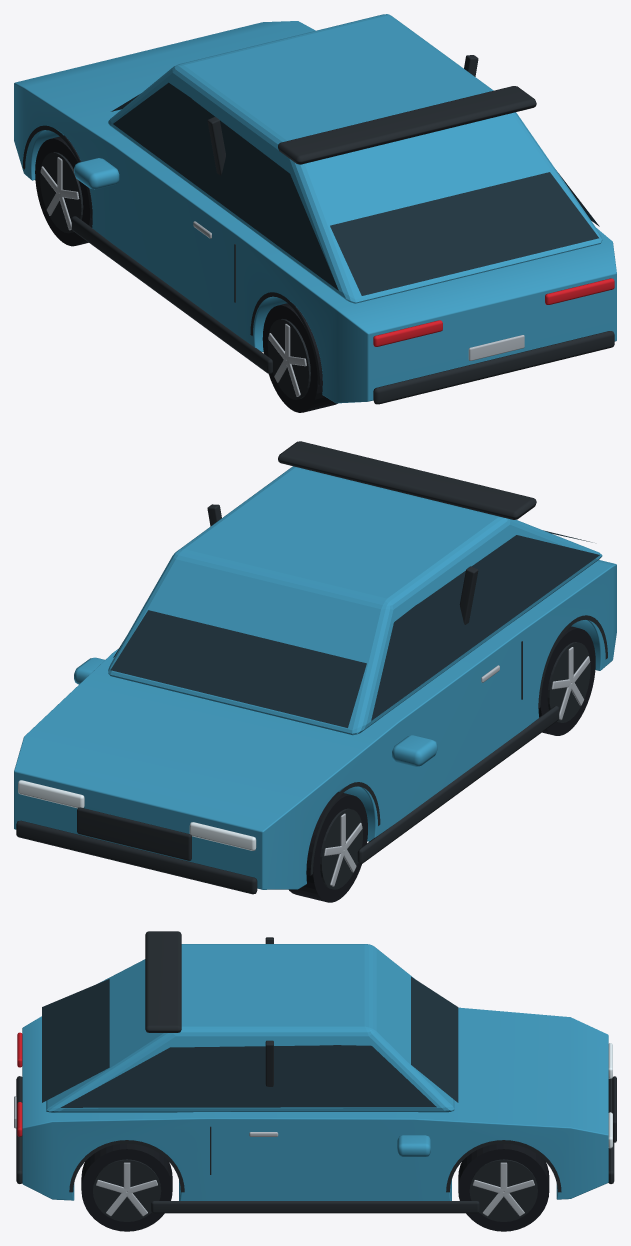
File: coastal_hatch.glb
3 views of the same model, one above another, from view 1: azimuth 30°, elevation 25°; view 2: azimuth 150°, elevation 25°; view 3: azimuth 270°, elevation 25° (orthographic). The views are drawn at different scales.
Visible parts, largest first — view 1: sculpted-body, cabin-paint, rear-glass, side-window, roof spoiler, lower bumper.001, side skirt, tire.002, rim.004, rim, tire, mirror (+4 smaller); view 2: sculpted-body, cabin-paint, windscreen, side-window, roof spoiler, lower bumper, side skirt, grille, tire, rim, tire.002, rim.004 (+4 smaller); view 3: sculpted-body, cabin-paint, side-window.001, rear-glass, windscreen, side skirt.001, roof spoiler, tire.001, tire.003, rim.003, rim.007, mirror.001 (+5 smaller).
Part boxes in pixels (left/top/right/bottom): sculpted-body: left=14, top=21, right=616, bottom=403; cabin-paint: left=108, top=14, right=602, bottom=303; rear-glass: left=330, top=172, right=598, bottom=295; side-window: left=113, top=82, right=338, bottom=290; roof spoiler: left=278, top=86, right=536, bottom=164; lower bumper.001: left=373, top=331, right=614, bottom=404; side skirt: left=71, top=216, right=272, bottom=373; tire.002: left=262, top=302, right=337, bottom=412; rim.004: left=267, top=319, right=310, bottom=399; rim: left=40, top=152, right=83, bottom=233; tire: left=35, top=135, right=92, bottom=246; mirror: left=74, top=158, right=119, bottom=189; sculpted-body: left=14, top=560, right=616, bottom=889; cabin-paint: left=108, top=466, right=602, bottom=735; windscreen: left=110, top=610, right=366, bottom=727; side-window: left=371, top=535, right=599, bottom=720; roof spoiler: left=278, top=441, right=536, bottom=519; lower bumper: left=16, top=820, right=257, bottom=894; side skirt: left=357, top=706, right=559, bottom=863; grille: left=77, top=807, right=191, bottom=860; tire: left=289, top=792, right=367, bottom=902; rim: left=320, top=808, right=362, bottom=889; tire.002: left=538, top=626, right=595, bottom=735; rim.004: left=547, top=642, right=590, bottom=722; sculpted-body: left=22, top=1007, right=608, bottom=1200; cabin-paint: left=46, top=944, right=454, bottom=1112; side-window.001: left=60, top=1045, right=436, bottom=1107; rear-glass: left=42, top=979, right=109, bottom=1102; windscreen: left=411, top=976, right=458, bottom=1102; side skirt.001: left=151, top=1201, right=479, bottom=1213; roof spoiler: left=145, top=931, right=181, bottom=1032; tire.001: left=458, top=1143, right=549, bottom=1231; tire.003: left=81, top=1143, right=172, bottom=1231; rim.003: left=469, top=1159, right=537, bottom=1221; rim.007: left=93, top=1159, right=161, bottom=1221; mirror.001: left=397, top=1135, right=430, bottom=1156.
Size of the model in its own units: 2.19 by 1.43 by 3.97.
